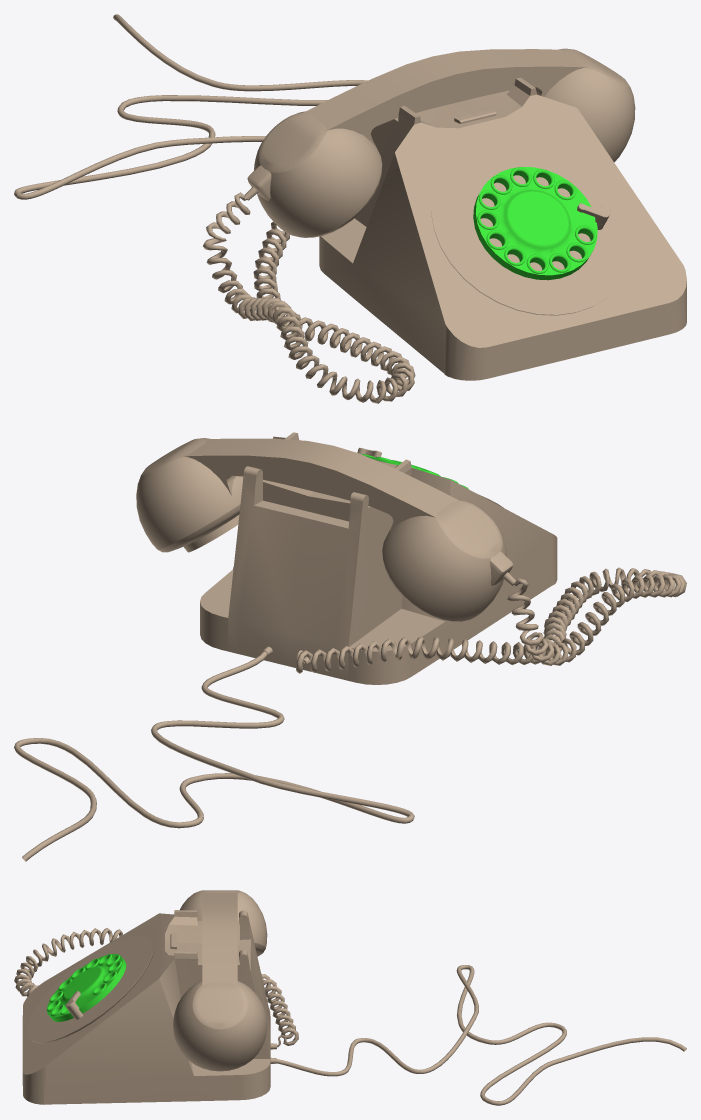
File: lowpoly.fbx
The picture shows the model from 3 angles, top to bottom: view 1: azimuth 30°, elevation 25°; view 2: azimuth 150°, elevation 25°; view 3: azimuth 270°, elevation 25°; orthographic projection. The views are drawn at different scales.
Parts seen in each view (by area): view 1: phone_low.001, sellphone_low.002, phone_low.002, cable_low.002, small_low.029; view 2: phone_low.001, sellphone_low.002, cable_low.002; view 3: phone_low.001, sellphone_low.002, cable_low.002, phone_low.002, small_low.029.
Boxes of the visible parts, x1,y1,x2,y2 form: phone_low.001: (319,77,686,380); sellphone_low.002: (244,48,635,237); phone_low.002: (431,132,635,315); cable_low.002: (14,14,415,403); small_low.029: (454,108,610,280); phone_low.001: (200,432,557,684); sellphone_low.002: (136,438,515,621); cable_low.002: (14,567,686,861); phone_low.001: (22,910,270,1104); sellphone_low.002: (173,890,267,1071); cable_low.002: (14,928,686,1105); phone_low.002: (26,936,153,1043); small_low.029: (46,933,276,1063).
Size of the model in its own units: 234 by 97.2 by 419.
